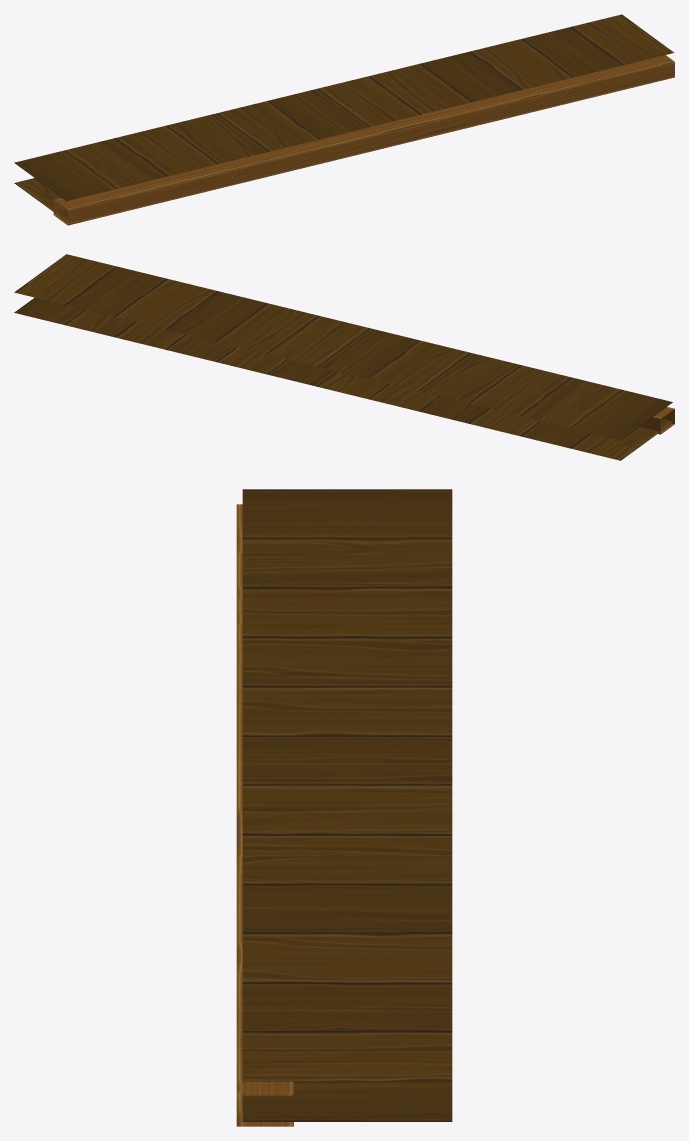
Rendered from SM_House_Floor_Overhang_Top.fbx.
3 renders of one model, top to bottom at view 1: azimuth 30°, elevation 25°; view 2: azimuth 150°, elevation 25°; view 3: azimuth 270°, elevation 25°, orthographic. The views are drawn at different scales.
Parts seen in each view (by area): view 1: SM_House_Floor_Overhang_Top; view 2: SM_House_Floor_Overhang_Top; view 3: SM_House_Floor_Overhang_Top.
Boxes of the visible parts, bbox=[...] form: SM_House_Floor_Overhang_Top: bbox=[14, 14, 674, 225]; SM_House_Floor_Overhang_Top: bbox=[14, 254, 674, 460]; SM_House_Floor_Overhang_Top: bbox=[236, 489, 452, 1126].
Size of the model in its own units: 5.01 by 0.1826 by 0.7715.
